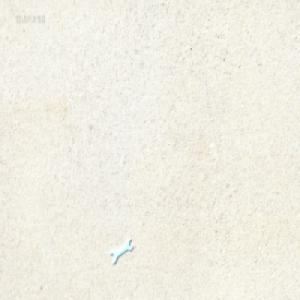Wrench: (110, 235, 133, 263)
